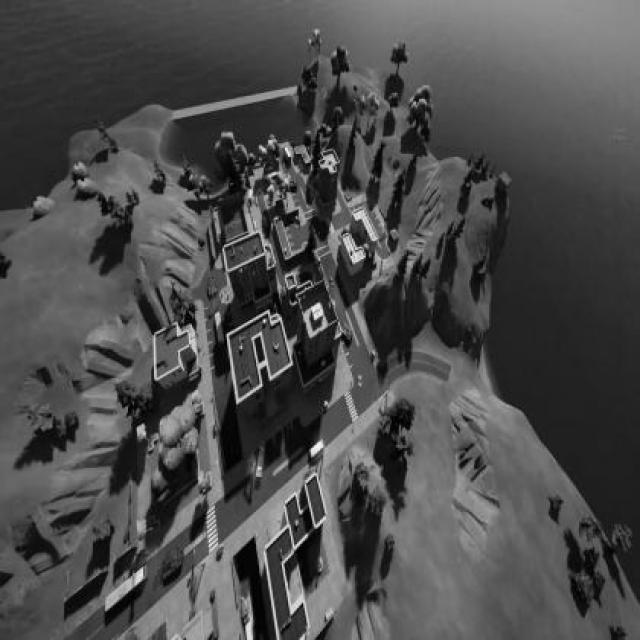tank: (154, 543, 184, 582), (339, 319, 353, 344), (207, 276, 217, 297), (289, 178, 298, 190)
